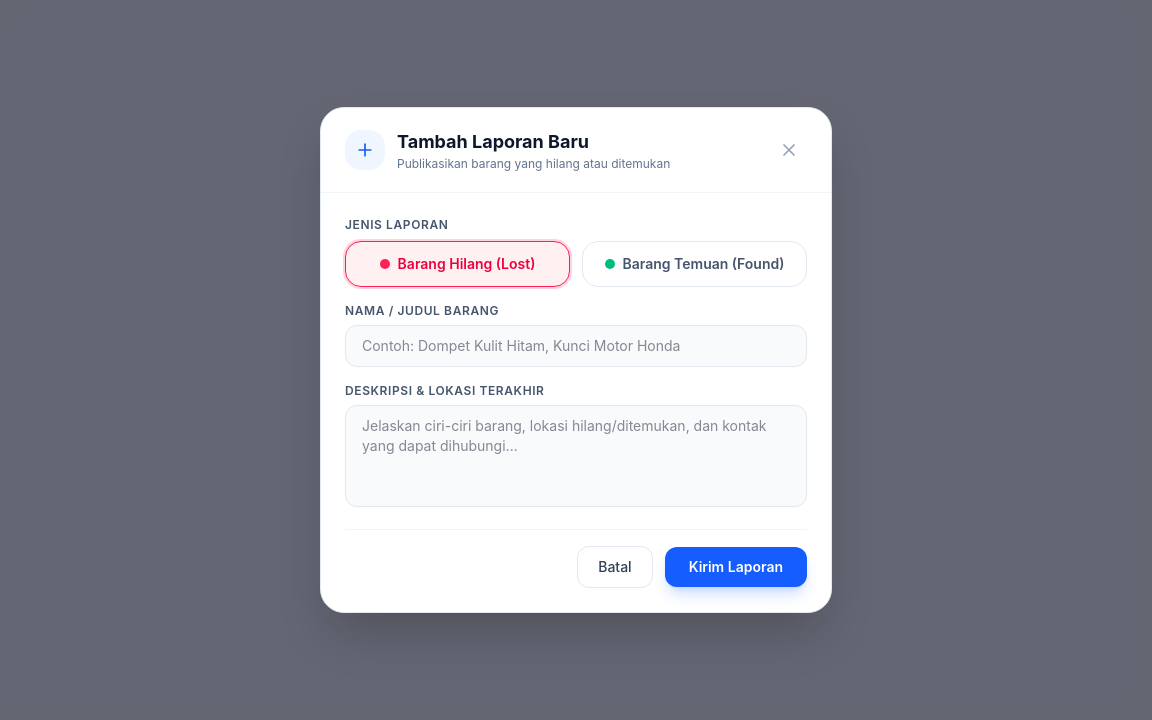
Test: AddModal › should validate empty inputs on submit
What coordinates should you click on to do the following:
click the button "Kirim Laporan"
I would click on:
 (736, 567)
Its box is left=665, top=547, right=807, bottom=587.
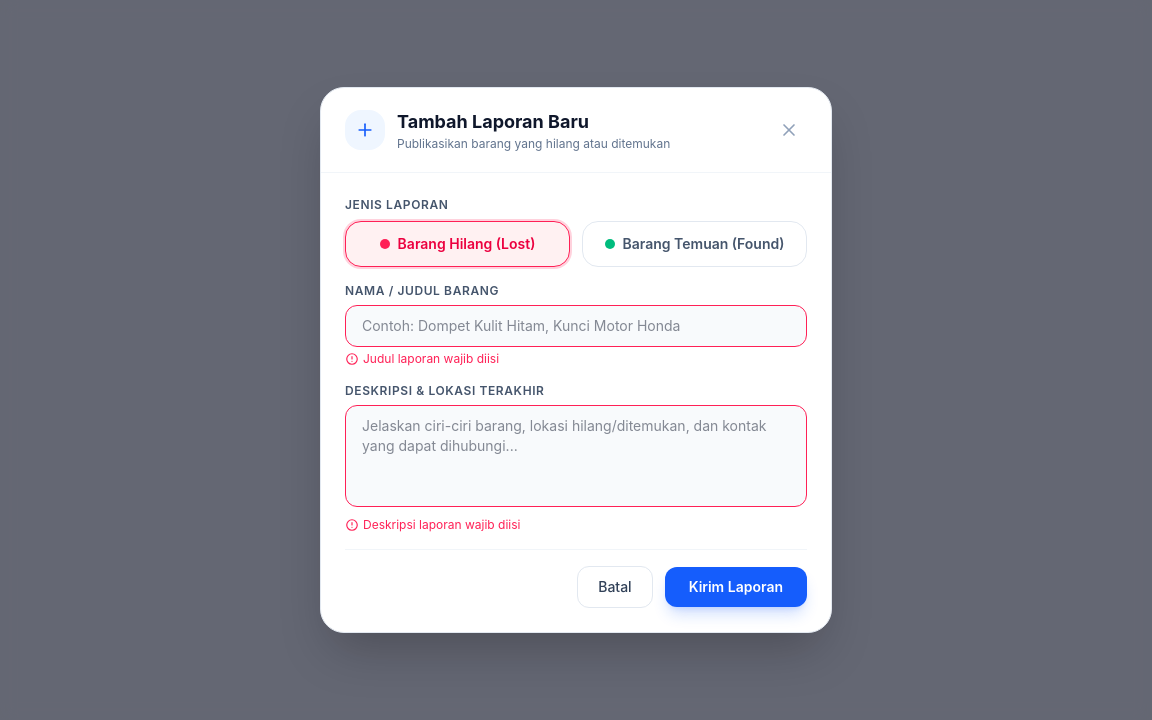
Expected: the text "Judul laporan wajib diisi" is shown, left=345, top=351, right=499, bottom=366
